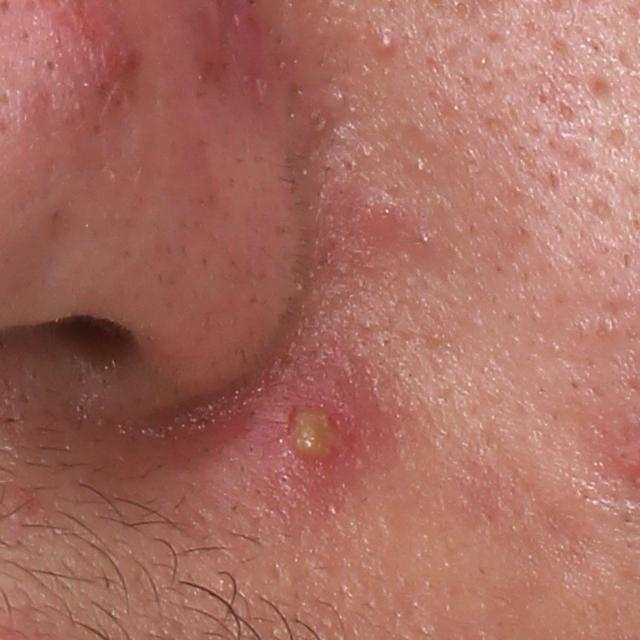atrophic_scar: (584, 75, 621, 107)
papule: (371, 29, 397, 62)
pustule: (231, 351, 403, 505)
